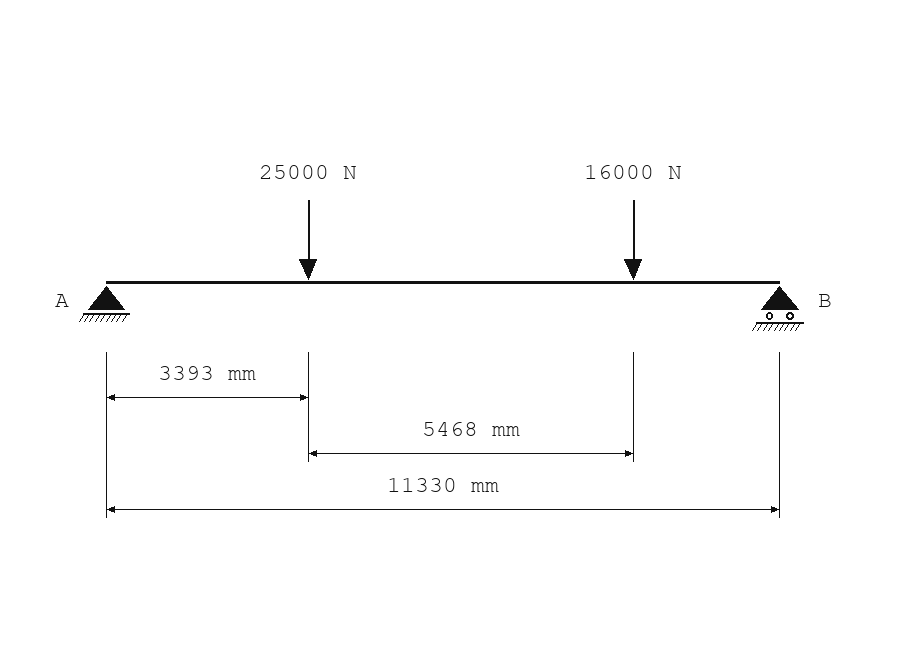pin_support: (79, 286, 130, 322)
point_load: (299, 200, 317, 280), (624, 200, 642, 280)
roller_support: (752, 286, 804, 331)
